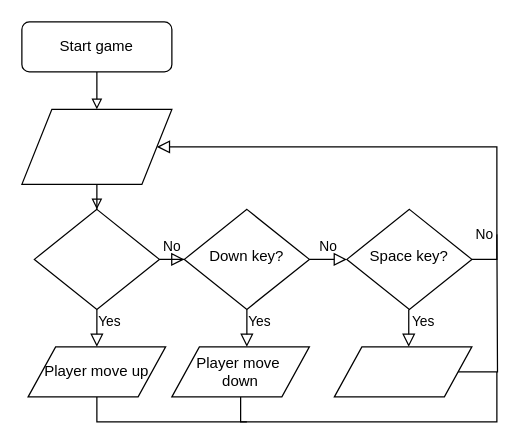
This 531x445 diagram has some shape labels left out. Here are the shapes that lost their labels. From the top down, the box of each, then its label:
(21, 108, 172, 184): Input keypress
(33, 208, 159, 309): Up key?
(333, 346, 472, 397): Player shoots bullet
